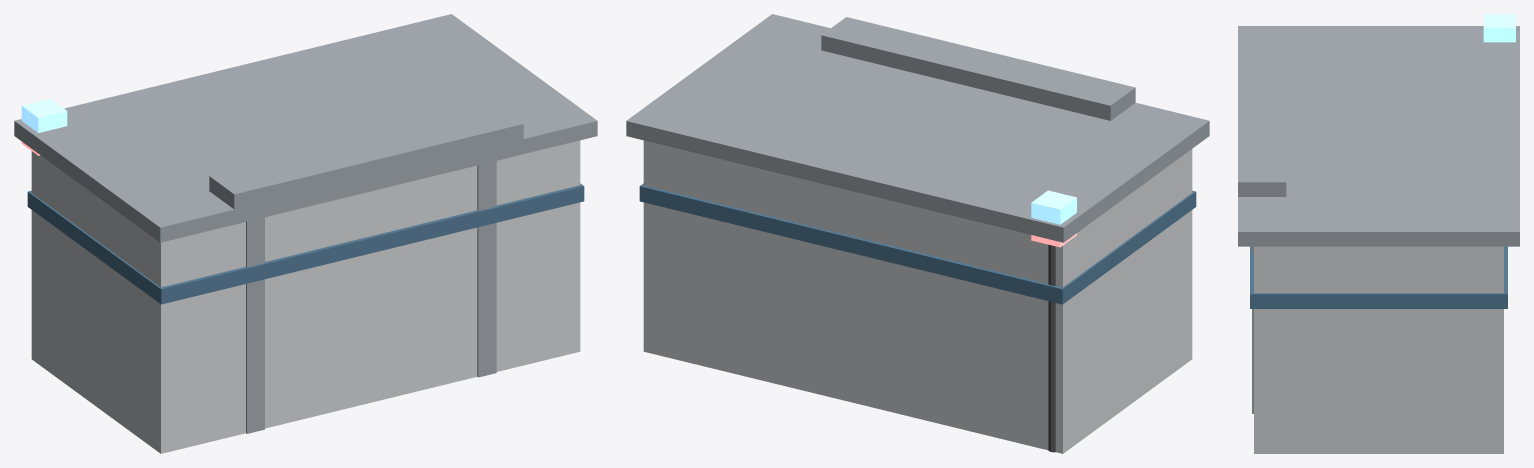
The model's file is police_station.glb.
The picture shows the model from 3 angles, left to right: view 1: azimuth 30°, elevation 25°; view 2: azimuth 150°, elevation 25°; view 3: azimuth 270°, elevation 25°; orthographic projection. The views are drawn at different scales.
Visible parts, largest first — view 1: PoliceStation; view 2: PoliceStation; view 3: PoliceStation.
Boxes of the visible parts, x1,y1,x2,y2 form: PoliceStation: (14,14,597,453); PoliceStation: (626,14,1209,453); PoliceStation: (1238,14,1519,453).
Size of the model in its own units: 1.21 by 0.66 by 0.7.
